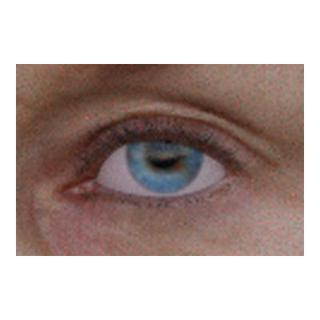pupil: (150, 140, 178, 167)
